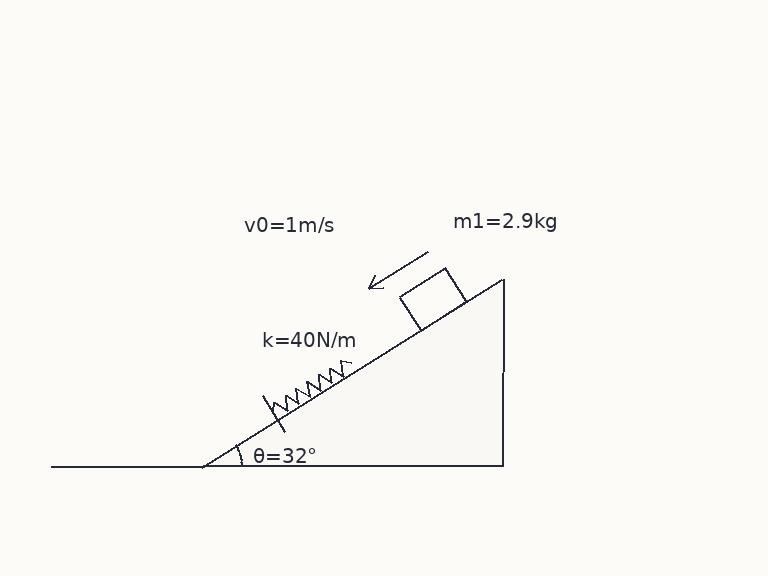block: (398, 266, 468, 332)
ramp: (200, 276, 504, 468)
spring: (270, 358, 352, 413)
